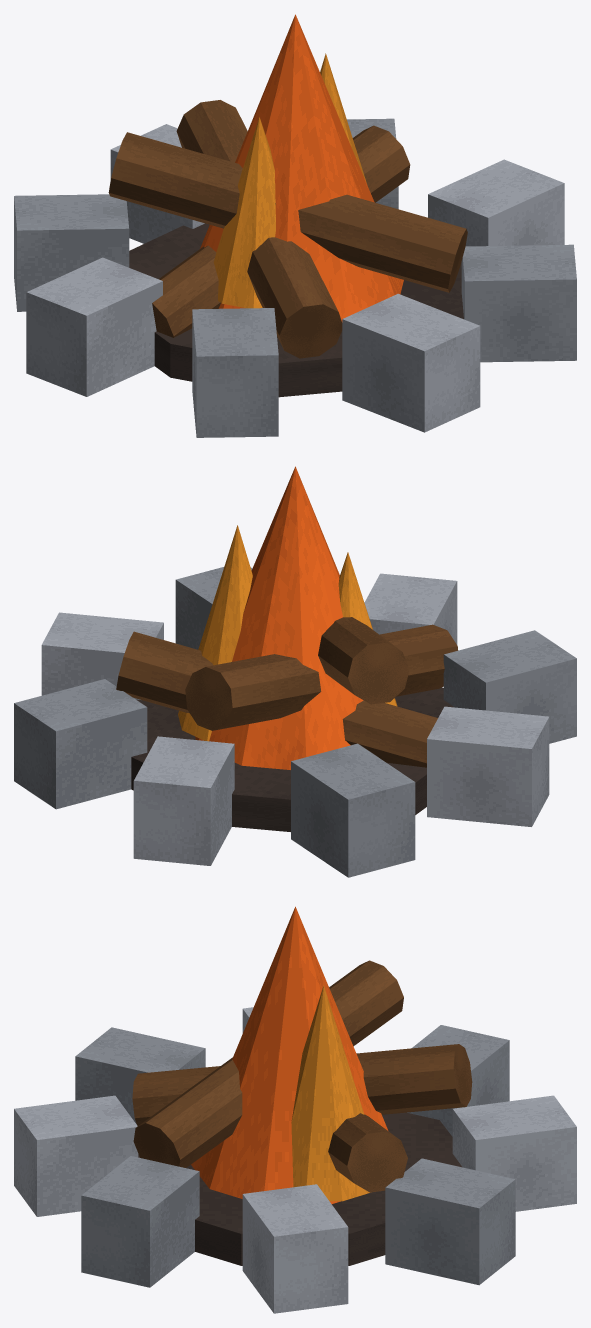
The model's file is prop_campfire.glb.
3 renders of one model, top to bottom at view 1: azimuth 30°, elevation 25°; view 2: azimuth 150°, elevation 25°; view 3: azimuth 270°, elevation 25°, orthographic. The views are drawn at different scales.
Parts seen in each view (by area): view 1: prop_campfire; view 2: prop_campfire; view 3: prop_campfire.
Boxes of the visible parts, x1,y1,x2,y2 form: prop_campfire: (14,14,576,437); prop_campfire: (14,466,576,877); prop_campfire: (14,906,576,1313).
Bounding box in the file's own units: 1.59 × 0.9 × 1.59.
1 material, 1 textured.
